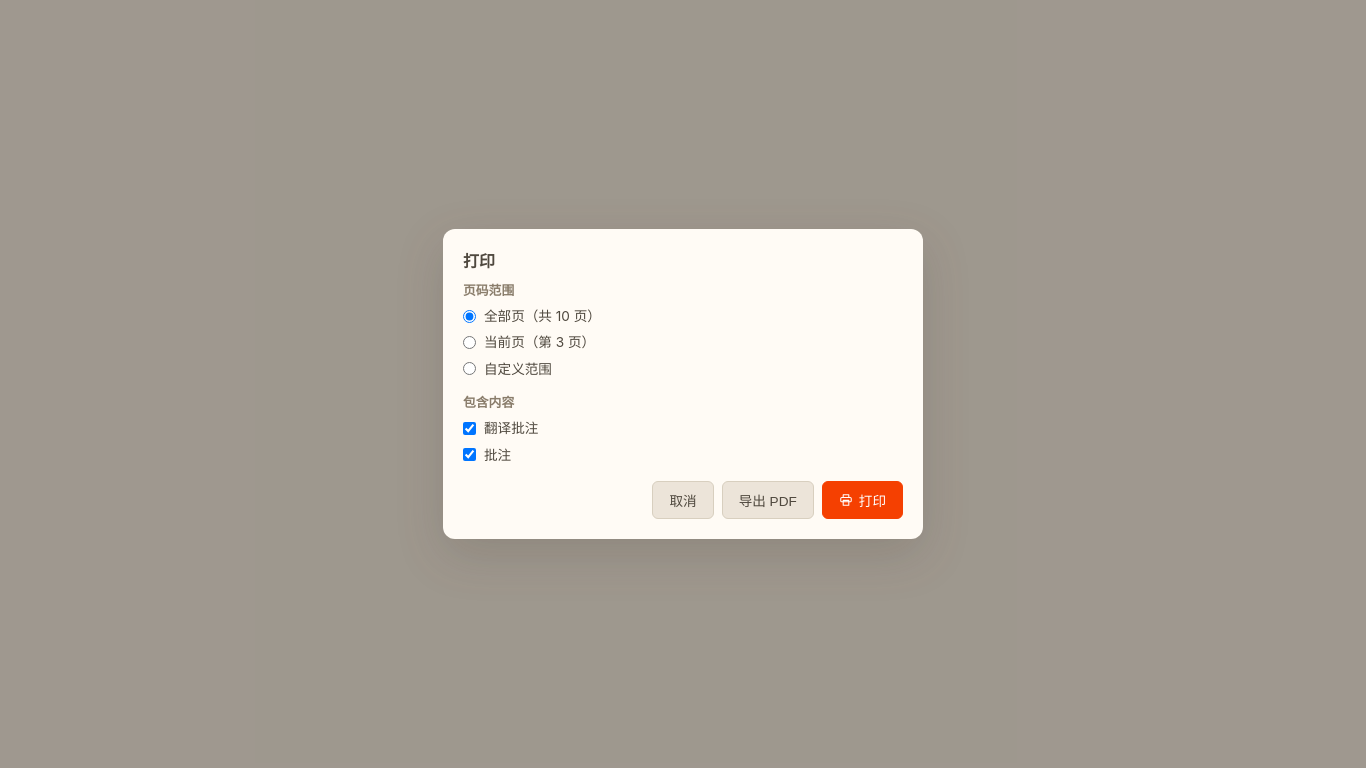
Test: PrintModal › shows a friendly error when the action fails and stays open
The image size is (1366, 768).
Click the button "打印".
click(862, 500)  # box [822, 481, 903, 519]
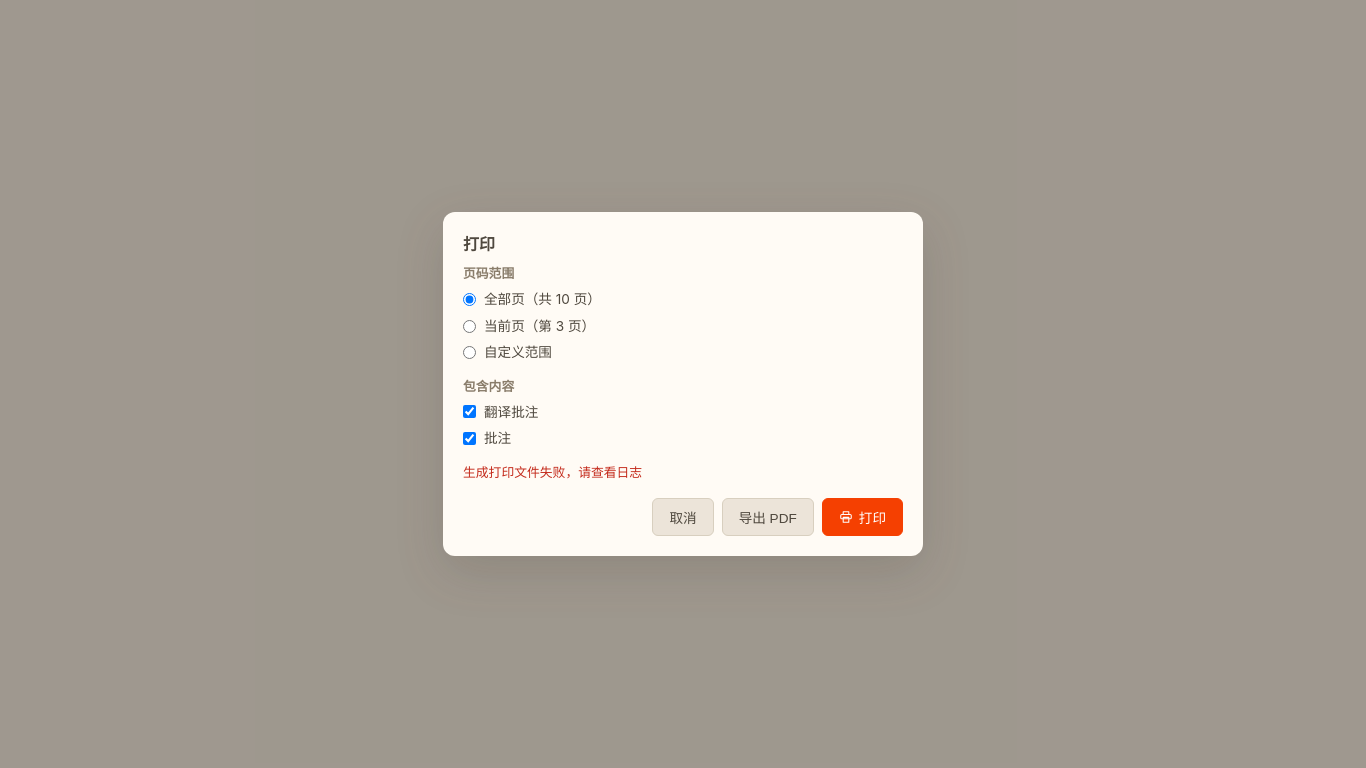
Result: the text "生成打印文件失败，请查看日志" is shown at [463, 465, 642, 480]
